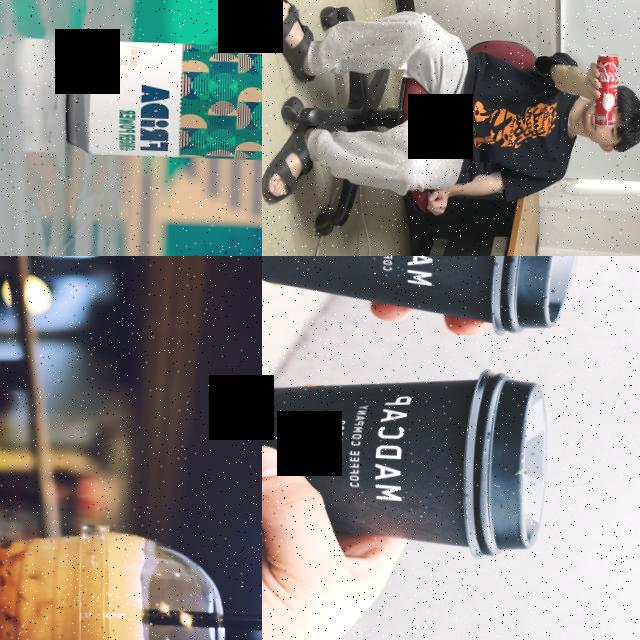can: (63, 38, 262, 163), (591, 54, 619, 128)
cup: (262, 357, 550, 561), (0, 515, 234, 640), (262, 256, 586, 338)
